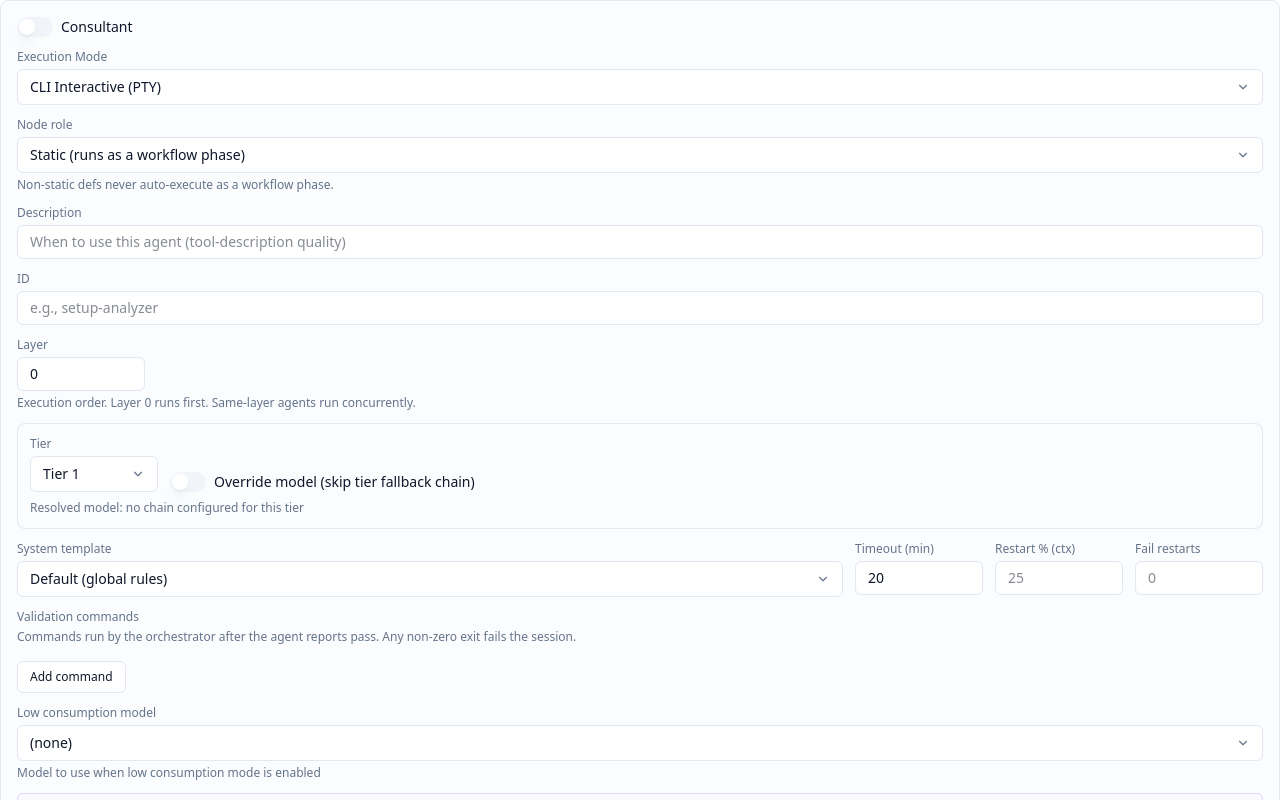
Scenario: AgentDefForm — apiModeEnabled=false gate › hides API option from Execution Mode dropdown
Expected: the text "Execution Mode" is shown, left=17, top=48, right=107, bottom=65
Click the button "CLI Interactive (PTY)".
click(95, 86)  # box left=17, top=69, right=1263, bottom=105
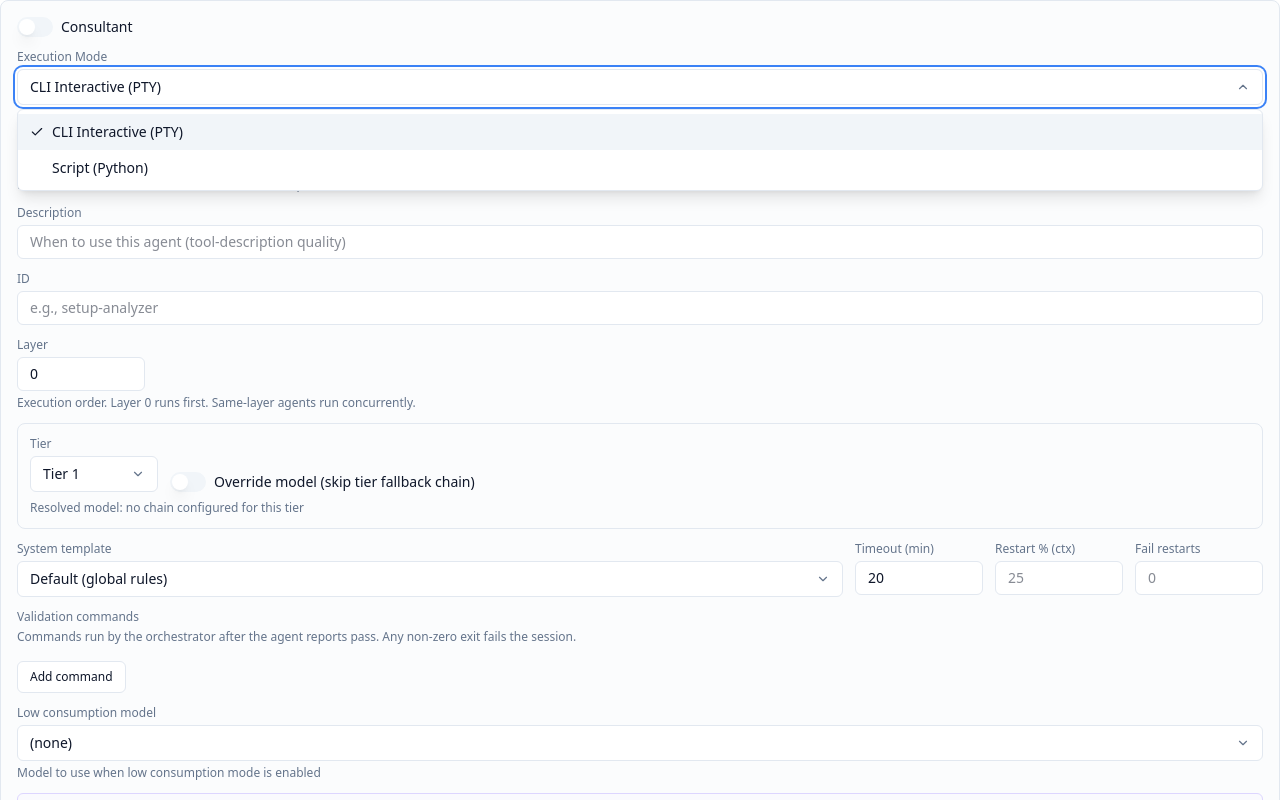
Expected: the text "Script (Python)" is shown, left=52, top=158, right=148, bottom=178
